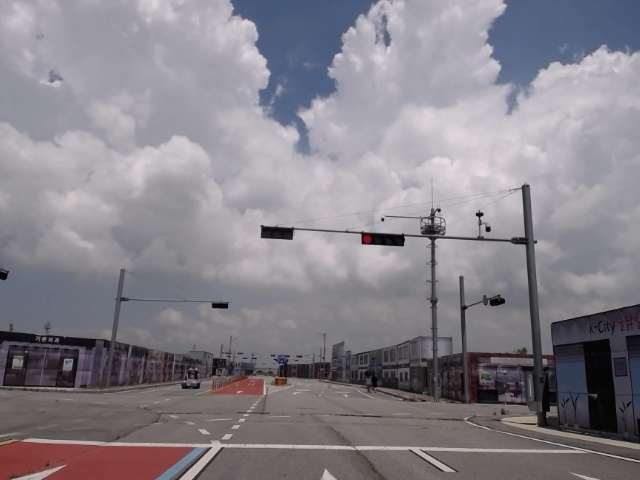red_4: (362, 233, 404, 246)
